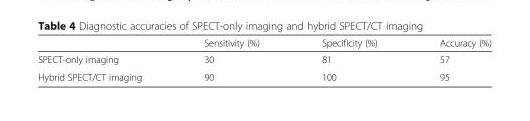table: (37, 36, 490, 82)
table column: (37, 36, 172, 82), (289, 36, 407, 82), (172, 36, 289, 82), (407, 36, 490, 82)
table column header: (37, 36, 490, 50)
table row: (37, 50, 490, 67), (37, 67, 490, 82), (37, 36, 490, 50)
